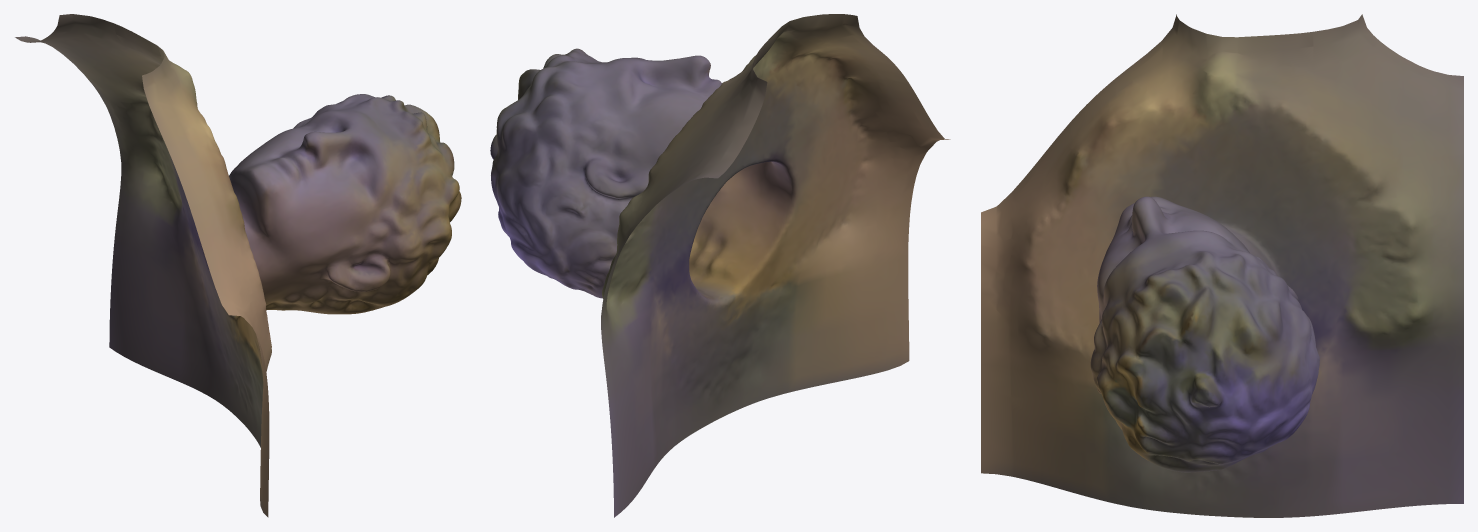
File: head.obj
The picture shows the model from 3 angles, left to right: view 1: azimuth 30°, elevation 25°; view 2: azimuth 150°, elevation 25°; view 3: azimuth 270°, elevation 25°; orthographic projection. The views are drawn at different scales.
Bounding box in the file's own units: 0.3983 × 0.463 × 0.463.
